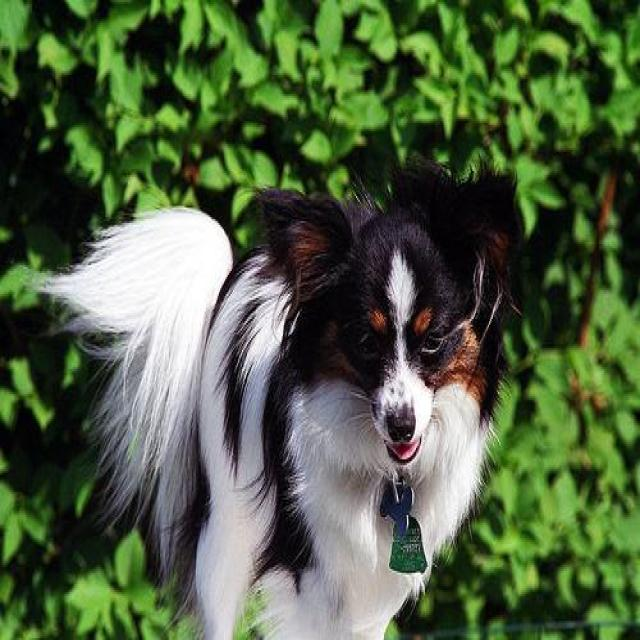papillon: (33, 162, 529, 638)
